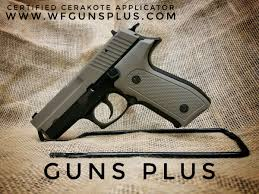gun: (30, 22, 212, 143)
